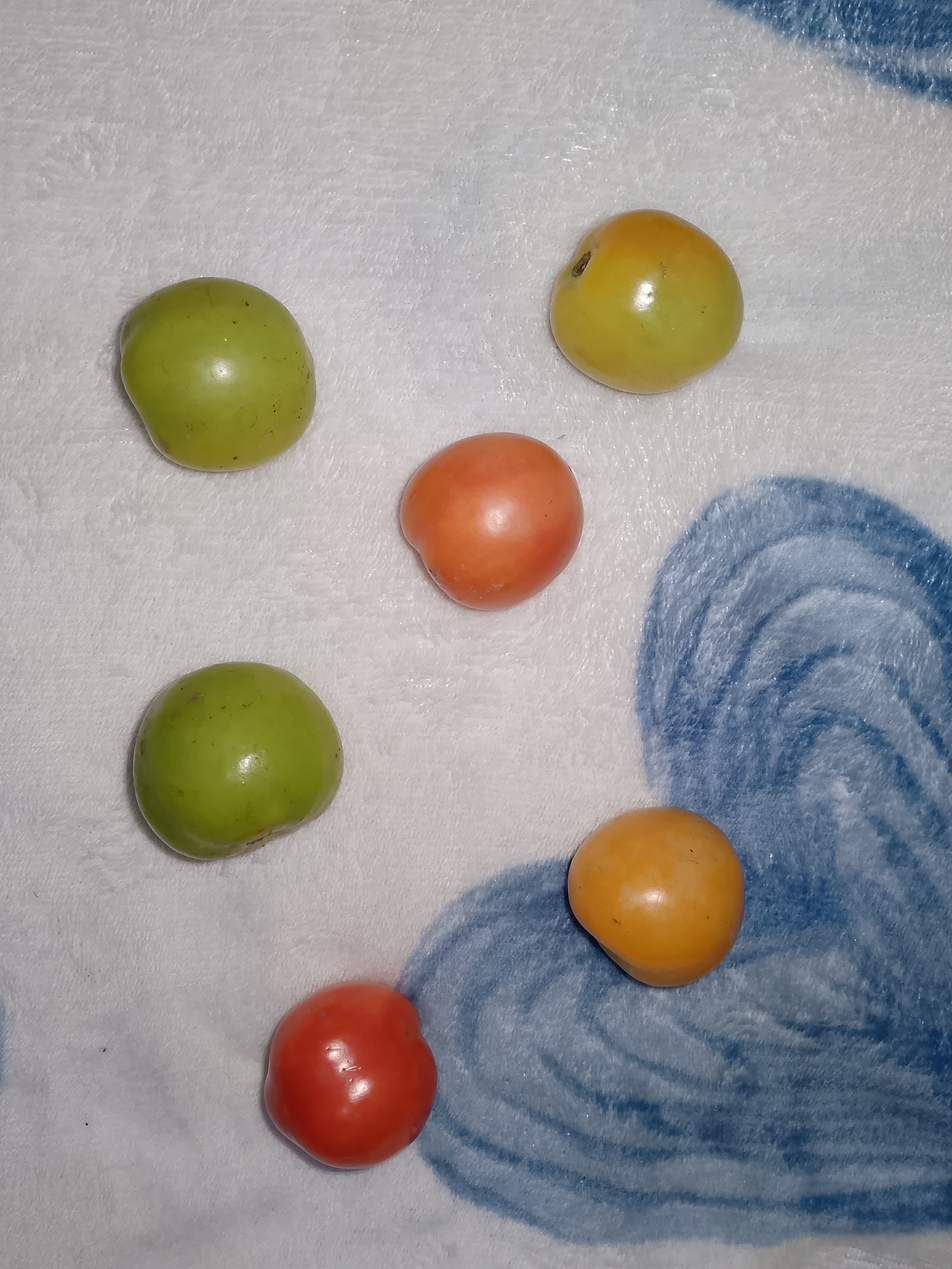Ripe: (358, 407, 631, 638), (247, 971, 465, 1196), (555, 781, 761, 1015)
Unripe: (29, 208, 356, 475), (101, 602, 389, 900), (511, 163, 787, 410)
